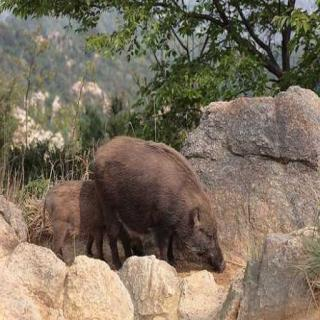Pig: (77, 101, 248, 294)
